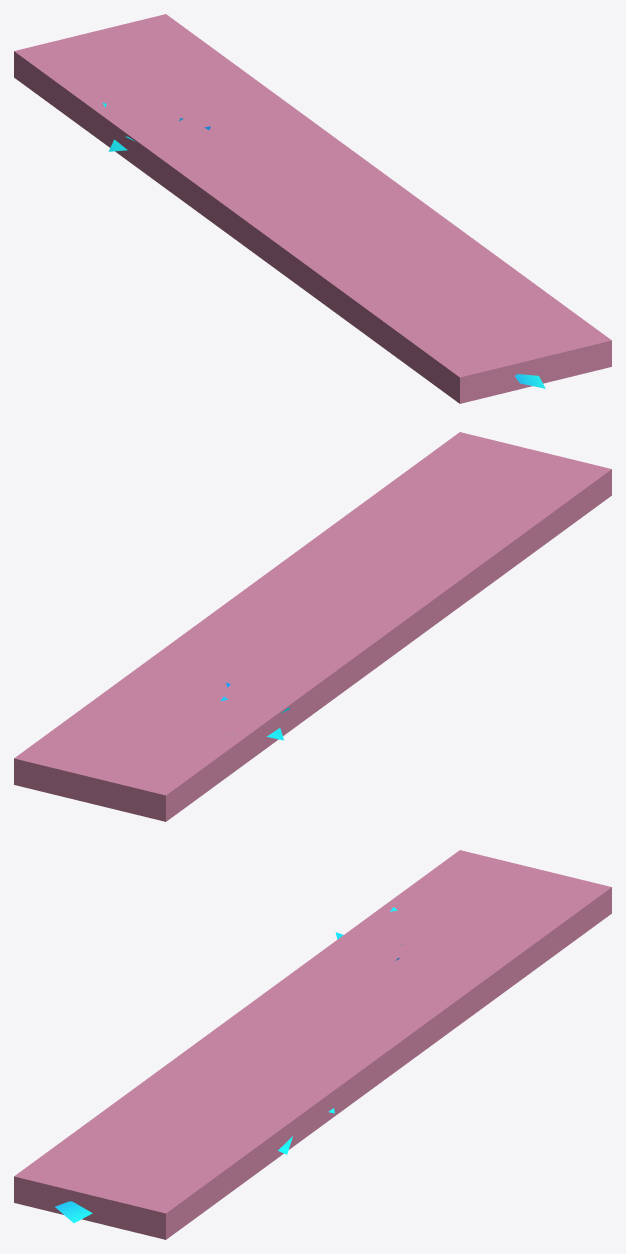
The model's file is vine_ground_large.dae.
3 renders of one model, top to bottom at view 1: azimuth 30°, elevation 25°; view 2: azimuth 150°, elevation 25°; view 3: azimuth 330°, elevation 25°, orthographic.
Visible parts, largest first — view 1: Untitled; view 2: Untitled; view 3: Untitled.
Boxes of the visible parts, bbox=[...] form: Untitled: bbox=[14, 14, 611, 403]; Untitled: bbox=[14, 432, 611, 821]; Untitled: bbox=[14, 850, 611, 1239].
Bounding box in the file's own units: 1.56 × 7.22 × 0.2484.
